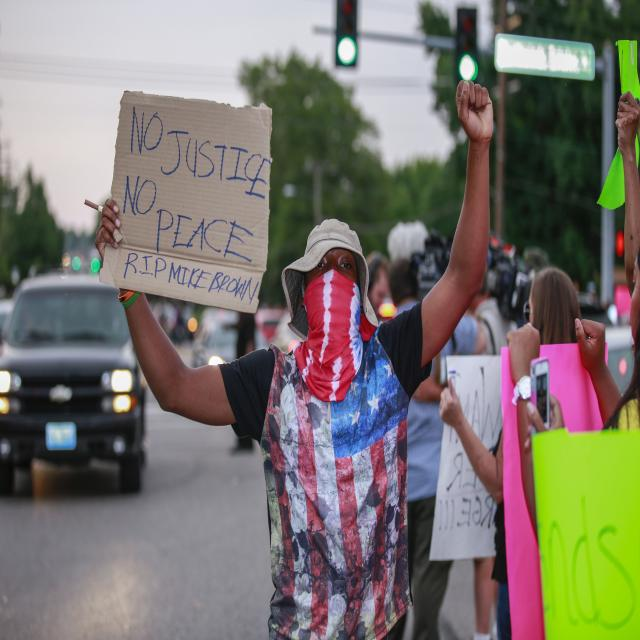body: (92, 79, 496, 640), (437, 264, 584, 640), (506, 236, 640, 551), (386, 256, 488, 640), (391, 215, 574, 418), (466, 261, 508, 640), (227, 242, 266, 454), (608, 79, 640, 301), (360, 244, 395, 325)
